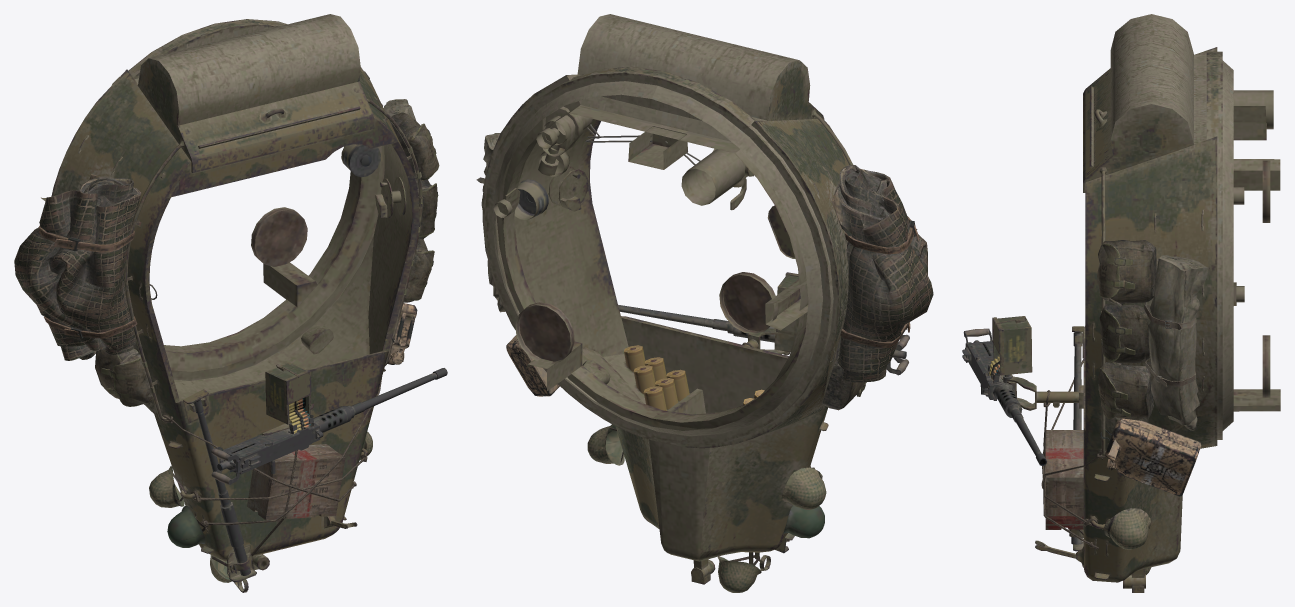
File: Turret_02.glb
3 renders of one model, left to right at view 1: azimuth 30°, elevation 25°; view 2: azimuth 150°, elevation 25°; view 3: azimuth 270°, elevation 25°, orthographic. The views are drawn at different scales.
Parts seen in each view (by area): view 1: set_0_group_0, set_0_group_1; view 2: set_0_group_0, set_0_group_1; view 3: set_0_group_0, set_0_group_1.
Boxes of the visible parts, x1,y1,x2,y2 form: set_0_group_0: (41, 14, 447, 592); set_0_group_1: (14, 112, 439, 582); set_0_group_0: (476, 14, 909, 584); set_0_group_1: (506, 165, 933, 592); set_0_group_0: (962, 14, 1280, 592); set_0_group_1: (1041, 240, 1201, 574).
Bounding box in the file's own units: 2.61 × 3.14 × 1.69.
Materials: 2 (2 with a texture image).
